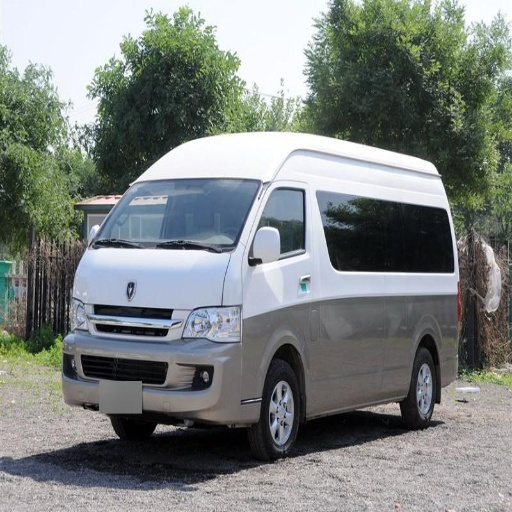front_bumper: (66, 302, 264, 424)
front_glass: (91, 178, 261, 252)
front_left_door: (245, 182, 308, 290), (313, 355, 384, 407)
trunk: (296, 278, 458, 383)
